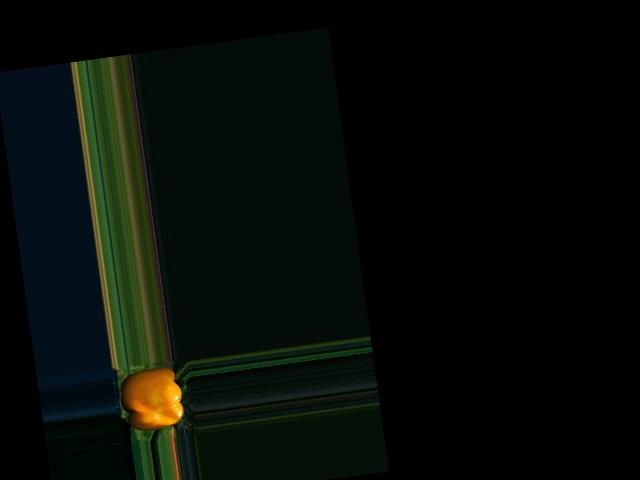bell_pepper: (115, 360, 192, 439)
